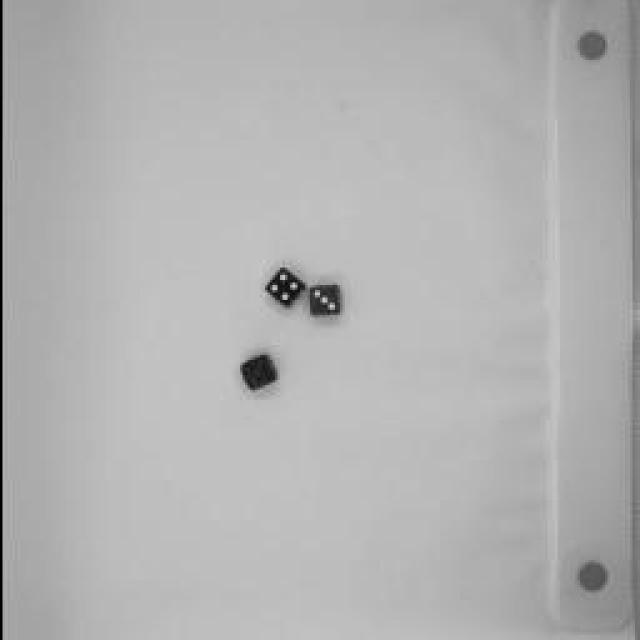dice_3: (299, 278, 349, 328), (231, 349, 281, 396)
dice_4: (259, 264, 306, 311)
